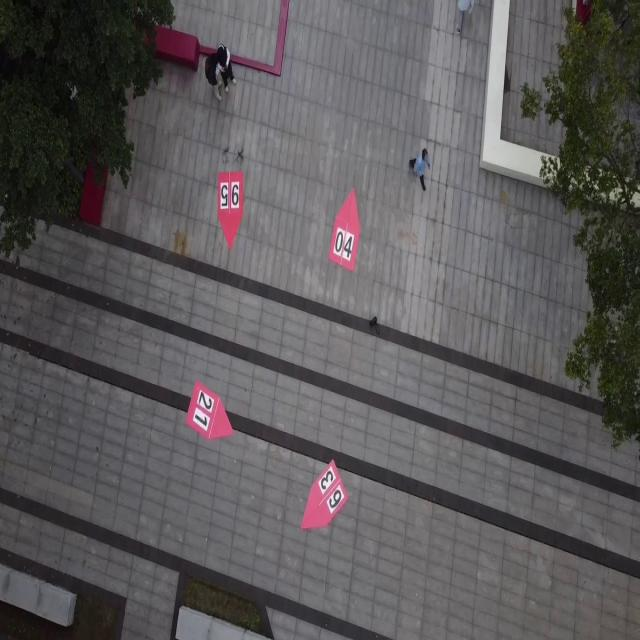-sign-: (300, 459, 350, 531), (185, 379, 234, 442), (328, 187, 360, 272), (217, 170, 244, 250)
